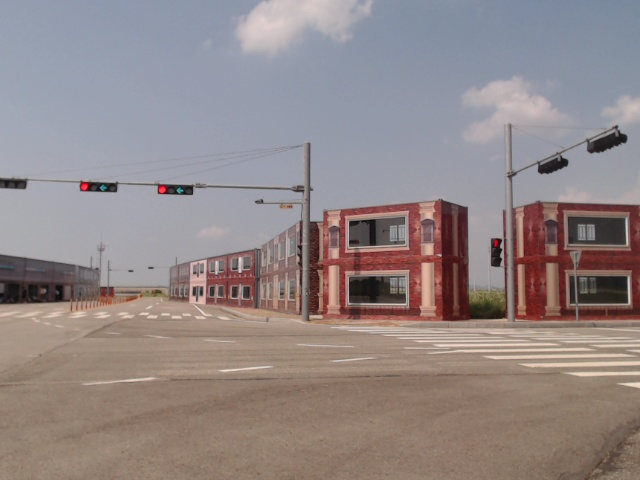left_green_4: (79, 182, 118, 193), (158, 184, 193, 194)
